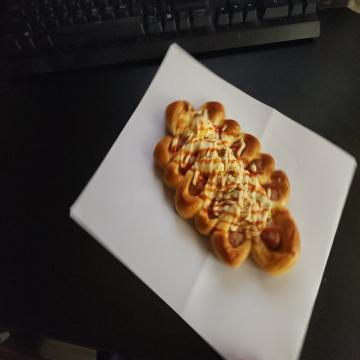pizza_bread: (156, 101, 300, 274)
